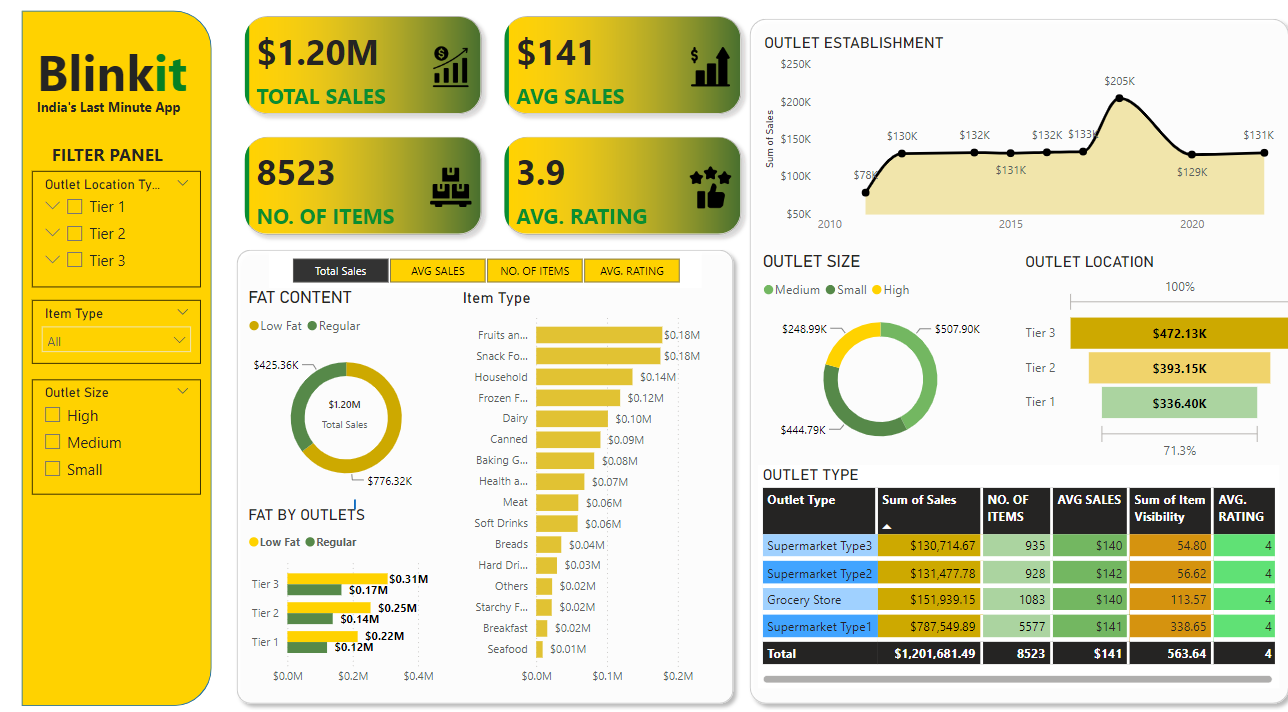

This screenshot's page, from the dashboard's own definition file:
{"tool":"powerbi","page":{"name":"Page 1","canvas":[1400,800],"ordinal":0},"visuals":[{"type":"shape","box":[24.7,17.7,205,750],"z":1000},{"type":"textbox","box":[35.3,42.4,182,81.3],"z":2000},{"type":"textbox","box":[35.3,106,182,35.3],"z":3000},{"type":"cardVisual","fields":{"Data":["BlinkIT Grocery Data.Total Sales","BlinkIT Grocery Data.AVG SALES","BlinkIT Grocery Data.NO. OF ITEMS","BlinkIT Grocery Data.AVG. RATING"]},"box":[247.4,7.1,570.9,270.4],"z":4000},{"type":"shape","box":[247.4,266.9,553.2,507.2],"z":5000},{"type":"donutChart","title":"FAT CONTENT","fields":{"Y":["BlinkIT Grocery Data.Total Sales"],"Category":["BlinkIT Grocery Data.Item Fat Content"]},"box":[263.3,316.4,220.9,229.8],"z":6000},{"type":"slicer","fields":{"Values":["Metrics.Metrics"]},"box":[291.6,277.5,466.6,38.9],"z":7000},{"type":"cardVisual","fields":{"Data":["BlinkIT Grocery Data.Total Sales"]},"box":[312.8,415.3,121.9,74.2],"z":8000},{"type":"clusteredBarChart","title":"FAT BY OUTLETS","fields":{"Y":["BlinkIT Grocery Data.Total Sales"],"Category":["BlinkIT Grocery Data.Outlet Location Type"],"Series":["BlinkIT Grocery Data.Item Fat Content"]},"box":[263.3,551.4,220.9,201.5],"z":9000},{"type":"shape","box":[273.3,545.5,220.9,10.6],"z":10000},{"type":"barChart","title":"Item Type","fields":{"Y":["BlinkIT Grocery Data.Total Sales"],"Category":["BlinkIT Grocery Data.Item Type"]},"box":[494.9,316.4,282.8,436.5],"z":11000},{"type":"shape","box":[800.6,17.7,599.1,756.4],"z":12000},{"type":"lineChart","title":"OUTLET ESTABLISHMENT","fields":{"Category":["BlinkIT Grocery Data.Outlet Establishment Year"],"Y":["Sum(BlinkIT Grocery Data.Sales)"]},"box":[820,42.4,562,224.5],"z":13000},{"type":"donutChart","title":"OUTLET SIZE","fields":{"Y":["BlinkIT Grocery Data.Total Sales"],"Category":["BlinkIT Grocery Data.Outlet Size"]},"box":[818.3,277.5,263.3,224.5],"z":14000},{"type":"funnel","title":"OUTLET LOCATION","fields":{"Y":["Sum(BlinkIT Grocery Data.Sales)"],"Category":["BlinkIT Grocery Data.Outlet Location Type"]},"box":[1101.1,277.5,298.7,229.8],"z":15000},{"type":"pivotTable","title":"OUTLET TYPE","fields":{"Values":["Sum(BlinkIT Grocery Data.Sales)","BlinkIT Grocery Data.NO. OF ITEMS","BlinkIT Grocery Data.AVG SALES","Sum(BlinkIT Grocery Data.Item Visibility)","BlinkIT Grocery Data.AVG. RATING"],"Rows":["BlinkIT Grocery Data.Outlet Type"]},"box":[818.3,507.2,562,240.4],"z":16000},{"type":"slicer","fields":{"Values":["BlinkIT Grocery Data.Outlet Location Type","BlinkIT Grocery Data.Outlet Size"]},"box":[35.3,190.9,182,125.5],"z":17000},{"type":"slicer","fields":{"Values":["BlinkIT Grocery Data.Outlet Size"]},"box":[35.3,415.3,182,123.7],"z":18000},{"type":"slicer","fields":{"Values":["BlinkIT Grocery Data.Item Type"]},"box":[35.3,330.5,182,68.9],"z":19000},{"type":"textbox","box":[51.3,155.5,152,49.5],"z":20000}]}

Visuals, with their boxes on the page's 1400x800 design canvas (x1, y1, x2, y2). These are canvas units, not pixel positions in the 1288x712 screenshot, which may show the page scaled, cropped or inside an application window:
shape: [left=25, top=18, right=230, bottom=768]
textbox: [left=35, top=42, right=217, bottom=124]
textbox: [left=35, top=106, right=217, bottom=141]
cardVisual - BlinkIT Grocery Data.Total Sales x BlinkIT Grocery Data.AVG SALES: [left=247, top=7, right=818, bottom=278]
shape: [left=247, top=267, right=801, bottom=774]
"FAT CONTENT" donutChart: [left=263, top=316, right=484, bottom=546]
slicer - Metrics.Metrics: [left=292, top=278, right=758, bottom=316]
cardVisual - BlinkIT Grocery Data.Total Sales: [left=313, top=415, right=435, bottom=490]
"FAT BY OUTLETS" clusteredBarChart: [left=263, top=551, right=484, bottom=753]
shape: [left=273, top=546, right=494, bottom=556]
"Item Type" barChart: [left=495, top=316, right=778, bottom=753]
shape: [left=801, top=18, right=1400, bottom=774]
"OUTLET ESTABLISHMENT" lineChart: [left=820, top=42, right=1382, bottom=267]
"OUTLET SIZE" donutChart: [left=818, top=278, right=1082, bottom=502]
"OUTLET LOCATION" funnel: [left=1101, top=278, right=1400, bottom=507]
"OUTLET TYPE" pivotTable: [left=818, top=507, right=1380, bottom=748]
slicer - BlinkIT Grocery Data.Outlet Location Type x BlinkIT Grocery Data.Outlet Size: [left=35, top=191, right=217, bottom=316]
slicer - BlinkIT Grocery Data.Outlet Size: [left=35, top=415, right=217, bottom=539]
slicer - BlinkIT Grocery Data.Item Type: [left=35, top=330, right=217, bottom=399]
textbox: [left=51, top=156, right=203, bottom=205]
